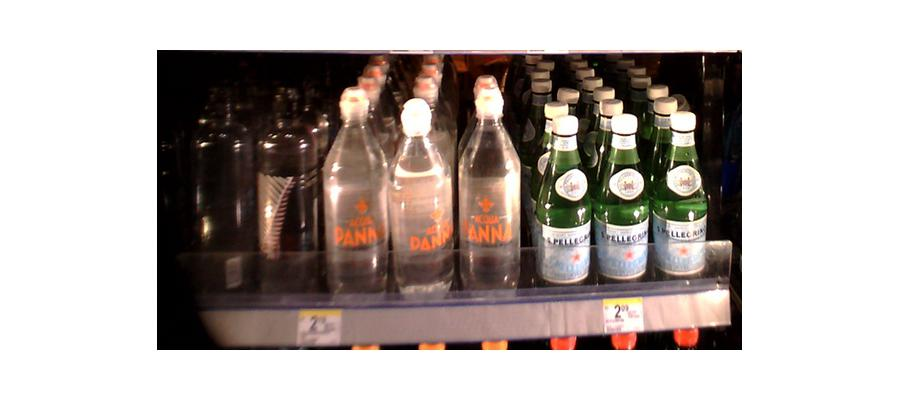bottle: (254, 95, 321, 296), (322, 95, 386, 302), (458, 92, 522, 296), (388, 101, 452, 299), (193, 89, 251, 269), (536, 112, 592, 291), (655, 105, 708, 280), (598, 111, 650, 285)
